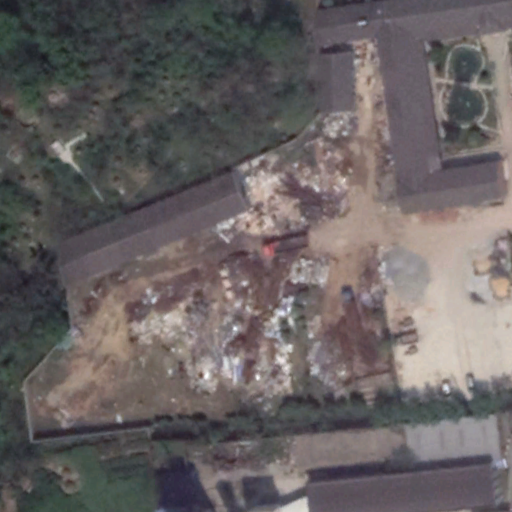msw: (123, 117, 348, 411)
